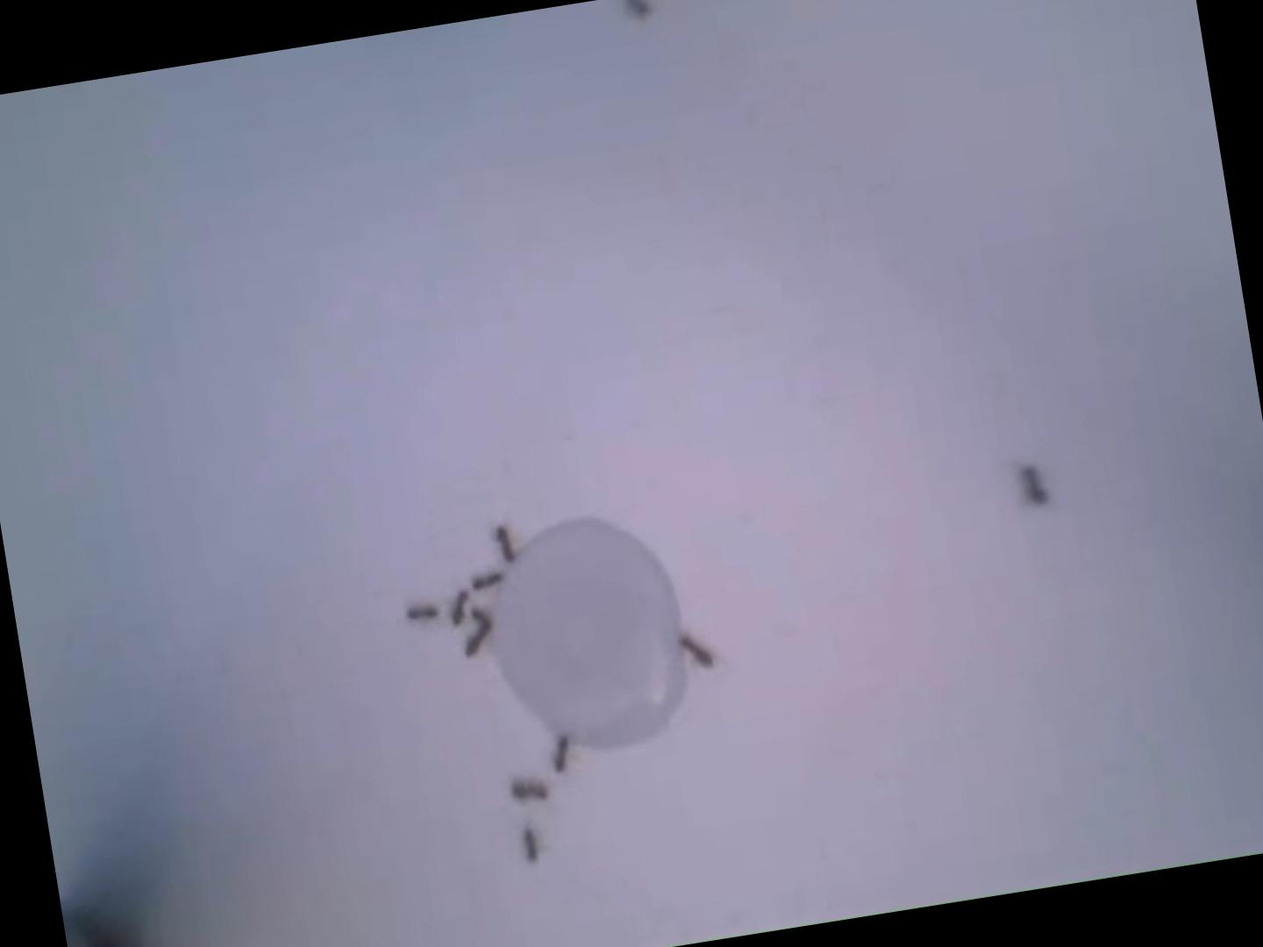Ant: (680, 630, 717, 670), (511, 772, 553, 806), (1020, 459, 1051, 505), (460, 621, 495, 659), (445, 588, 474, 626), (550, 732, 576, 773), (467, 568, 506, 595), (407, 598, 444, 625), (463, 599, 492, 633), (496, 523, 520, 563), (521, 822, 543, 862), (624, 0, 653, 18)
